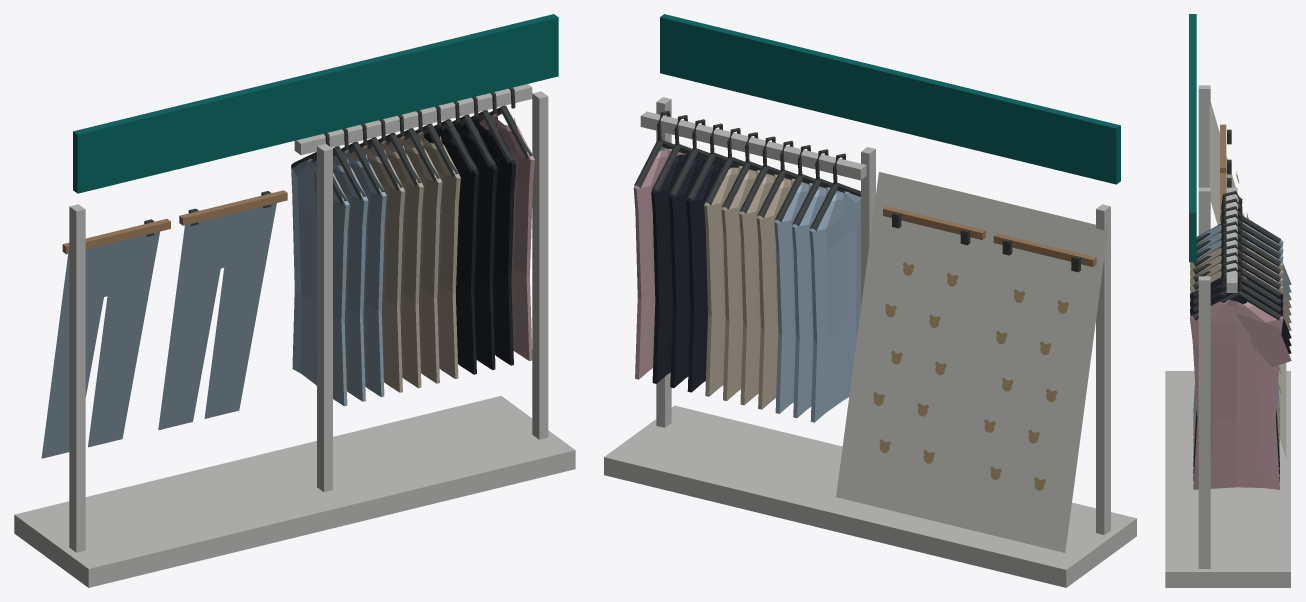
The model's file is homewear.glb.
The picture shows the model from 3 angles, left to right: view 1: azimuth 30°, elevation 25°; view 2: azimuth 150°, elevation 25°; view 3: azimuth 270°, elevation 25°; orthographic projection. The views are drawn at different scales.
Parts seen in each view (by area): view 1: DaisoHomewear; view 2: DaisoHomewear; view 3: DaisoHomewear.
Part boxes in pixels (x1,y1,x2,y2): DaisoHomewear: (14,14,575,587); DaisoHomewear: (604,14,1136,587); DaisoHomewear: (1165,14,1291,587).
Size of the model in its own units: 2.42 by 2.1 by 0.6429.
